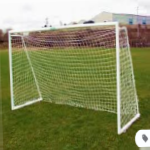goals: (6, 21, 145, 135)
